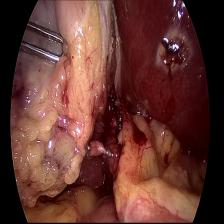Grasper: (20, 12, 75, 74)
